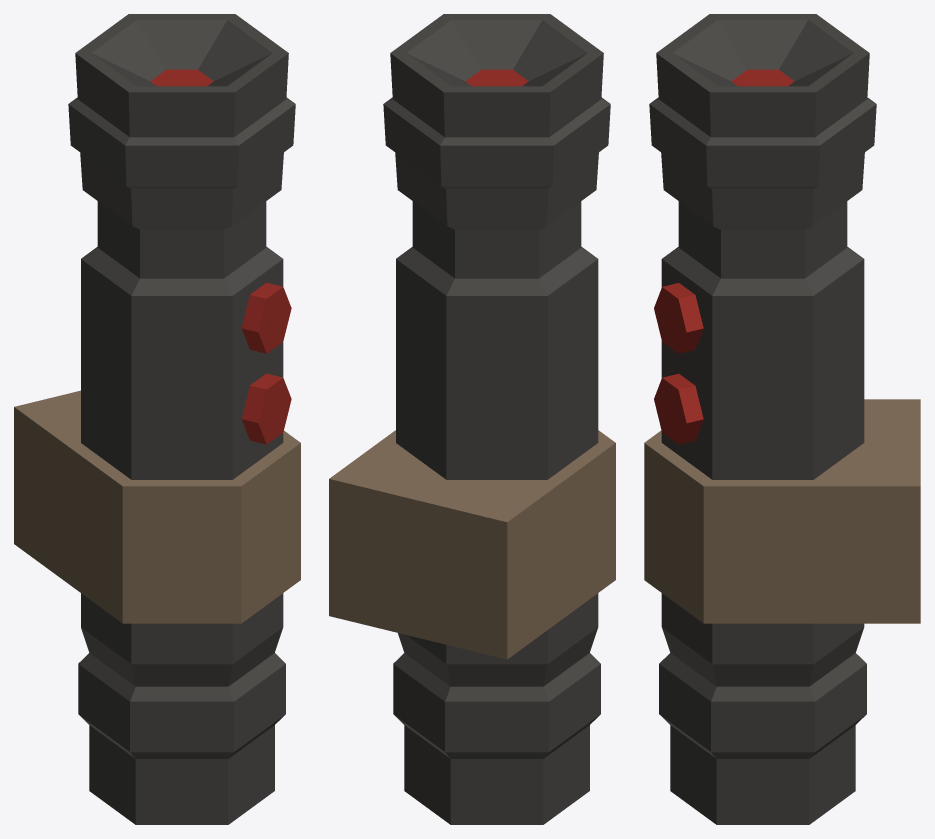
The model's file is Laser_01_SM.FBX.
3 renders of one model, left to right at view 1: azimuth 30°, elevation 25°; view 2: azimuth 150°, elevation 25°; view 3: azimuth 270°, elevation 25°, orthographic.
Parts seen in each view (by area): view 1: Laser_01_SM; view 2: Laser_01_SM; view 3: Laser_01_SM.
Boxes of the visible parts, x1,y1,x2,y2 form: Laser_01_SM: (14,14,300,824); Laser_01_SM: (329,14,615,824); Laser_01_SM: (644,14,920,824).
Size of what is drawn, in the model's own units: 2.82 by 3.79 by 11.15.
